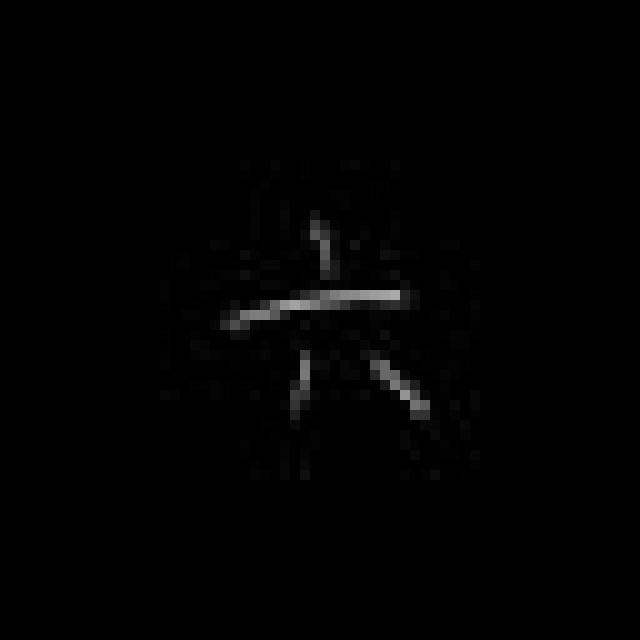6 -six-: (221, 220, 437, 428)
